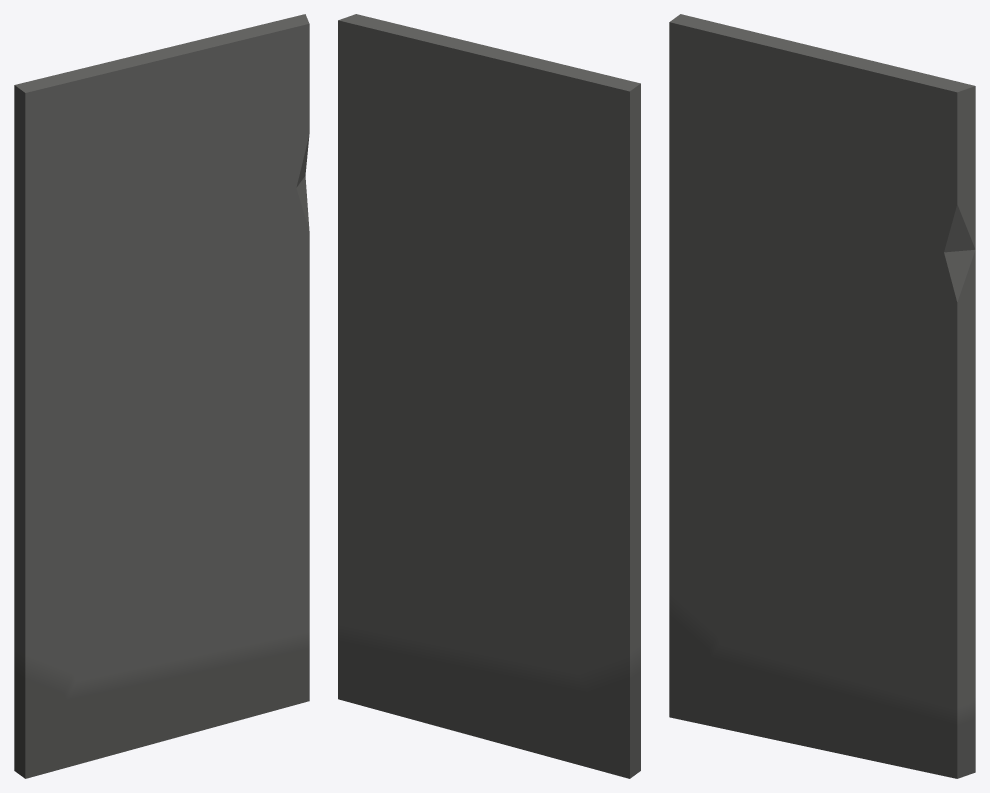
File: SM_Prop_Cabinet_Small_Door_01.glb
3 views of the same model, side by side, from view 1: azimuth 30°, elevation 25°; view 2: azimuth 150°, elevation 25°; view 3: azimuth 330°, elevation 25° (orthographic).
Visible parts, largest first — view 1: SM_Prop_Cabinet_Small_Door_01; view 2: SM_Prop_Cabinet_Small_Door_01; view 3: SM_Prop_Cabinet_Small_Door_01.
Part boxes in pixels (<box>): SM_Prop_Cabinet_Small_Door_01: <box>14,14,309,778</box>; SM_Prop_Cabinet_Small_Door_01: <box>338,14,640,778</box>; SM_Prop_Cabinet_Small_Door_01: <box>669,14,975,778</box>.
Bounding box in the file's own units: 0.4937 × 1.11 × 0.0323.
Materials: 1 (1 with a texture image).
